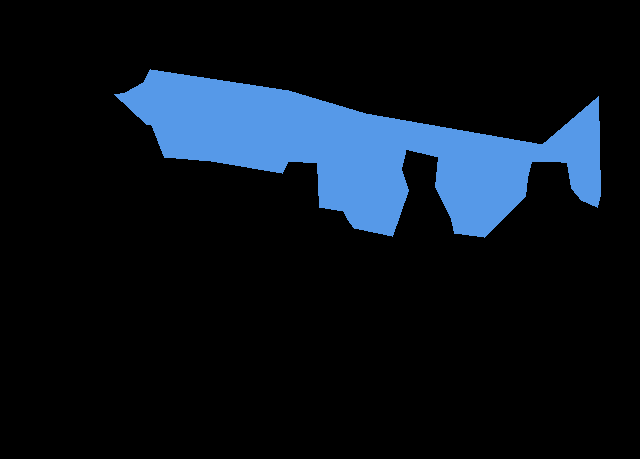Airplane: (114, 69, 601, 237)
